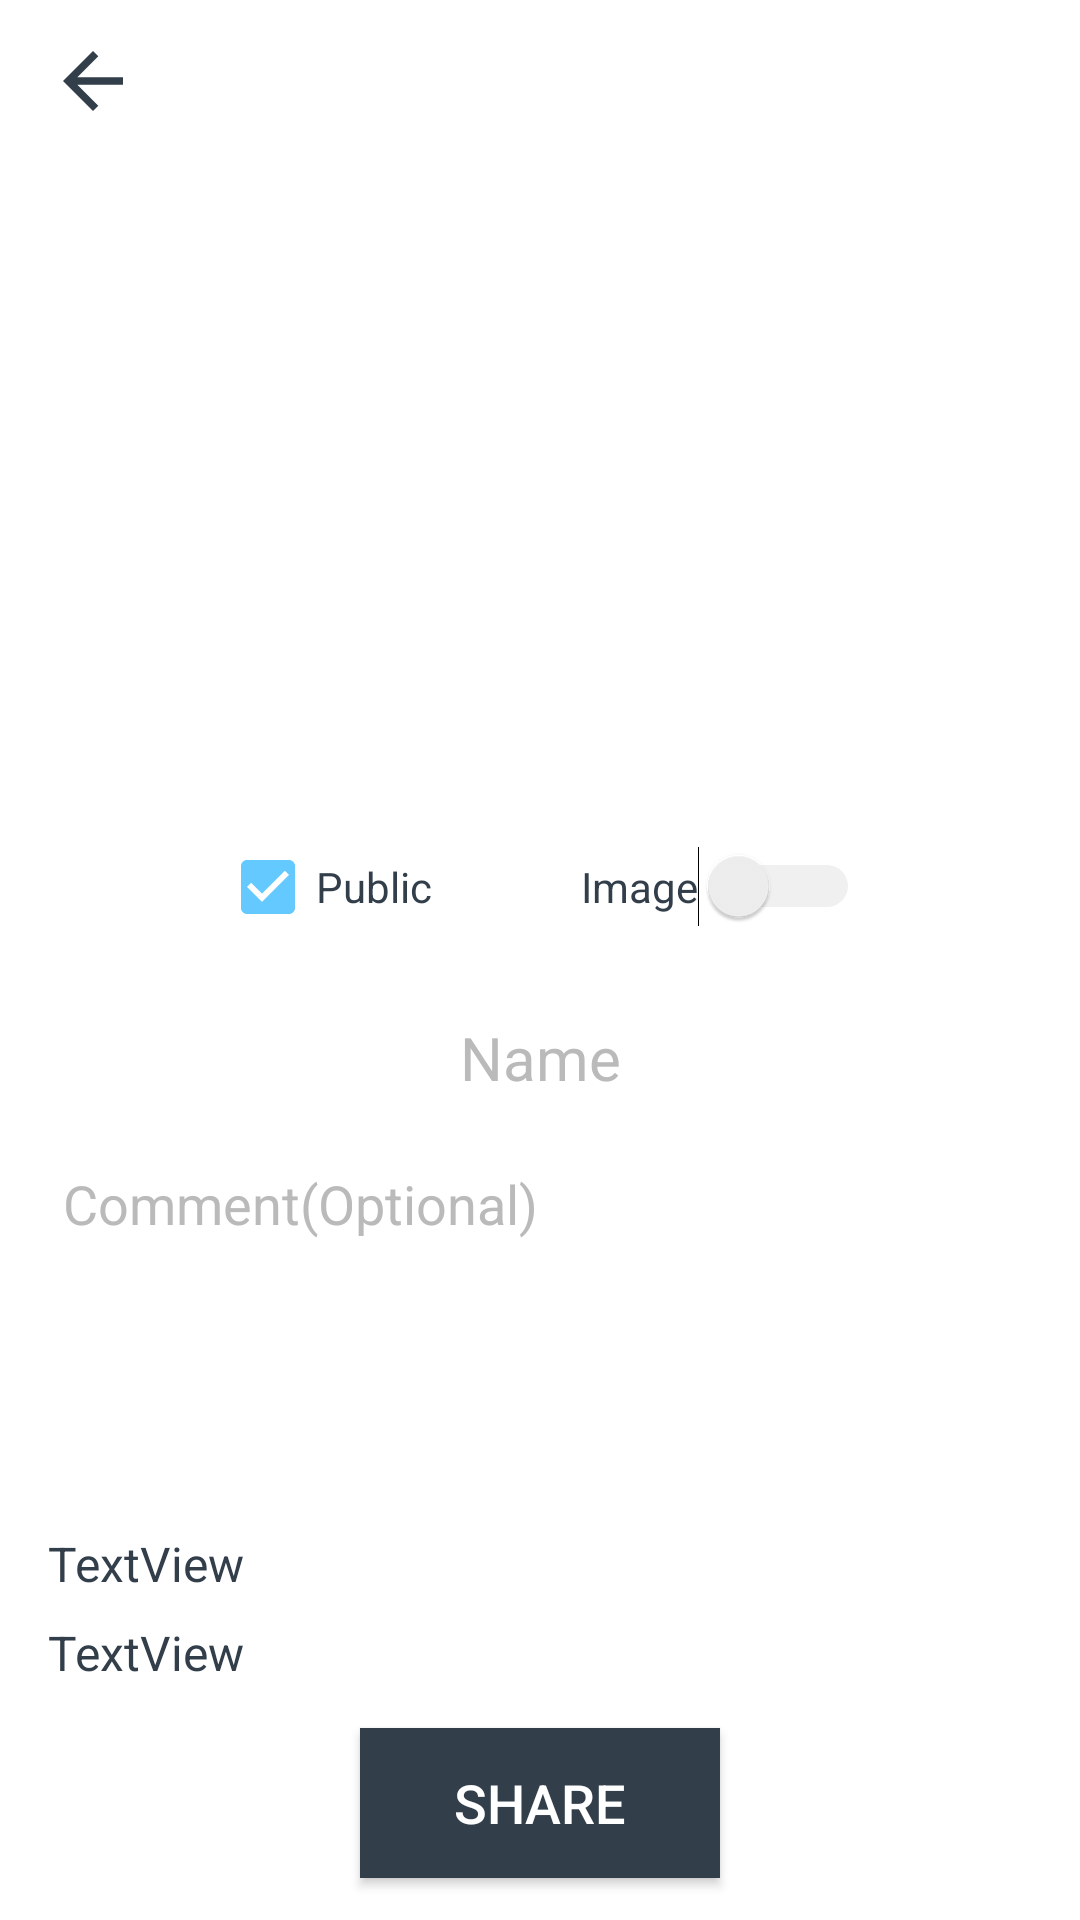

Icons on this 1080 x 1920 Android screen, each with the point to tap as point (x, y):
arrow back: point (93, 81)
